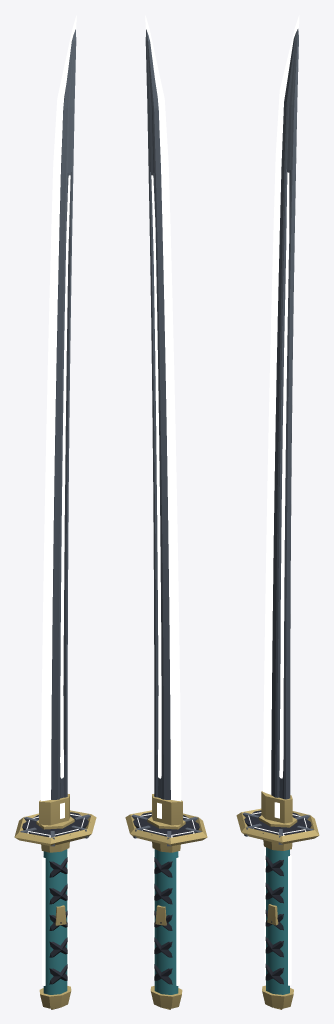
File: cyber-katana.glb
The picture shows the model from 3 angles, left to right: view 1: azimuth 30°, elevation 25°; view 2: azimuth 150°, elevation 25°; view 3: azimuth 330°, elevation 25°; orthographic projection.
Parts seen in each view (by area): view 1: Body, Signal; view 2: Body, Signal; view 3: Body, Signal.
Boxes of the visible parts, box(x1,y1,x2,y2) form: Body: box(14, 29, 96, 1009); Signal: box(26, 15, 84, 985); Body: box(125, 29, 207, 1009); Signal: box(137, 15, 195, 985); Body: box(236, 29, 319, 1009); Signal: box(248, 15, 307, 985).
Bounding box in the file's own units: 0.116 × 1.34 × 0.0779.
